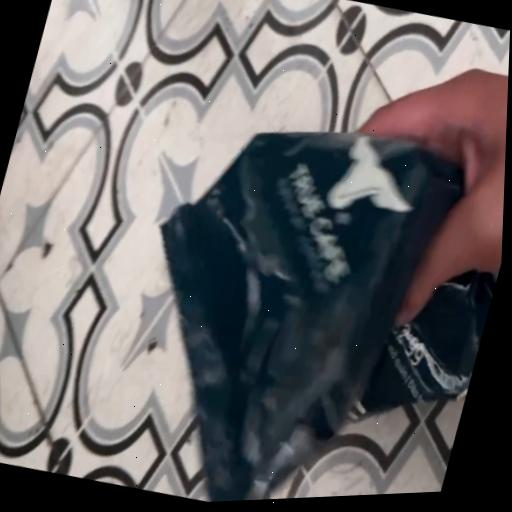cafe_hat: (161, 132, 498, 502)
